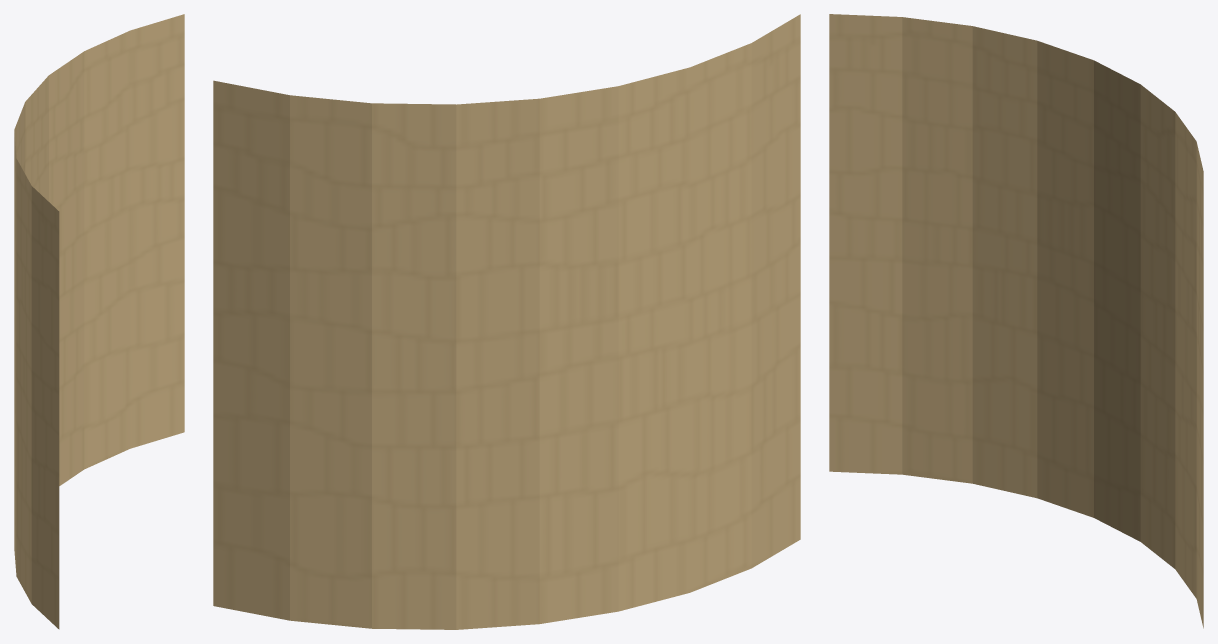
The model's file is parede curva.fbx.
3 renders of one model, left to right at view 1: azimuth 30°, elevation 25°; view 2: azimuth 150°, elevation 25°; view 3: azimuth 270°, elevation 25°, orthographic. The views are drawn at different scales.
Parts seen in each view (by area): view 1: Circle; view 2: Circle; view 3: Circle.
Boxes of the visible parts, left/top/right/bottom form: Circle: left=14, top=14, right=184, bottom=629; Circle: left=213, top=14, right=800, bottom=629; Circle: left=829, top=14, right=1203, bottom=628.
Bounding box in the file's own units: 100 × 135 × 100.
